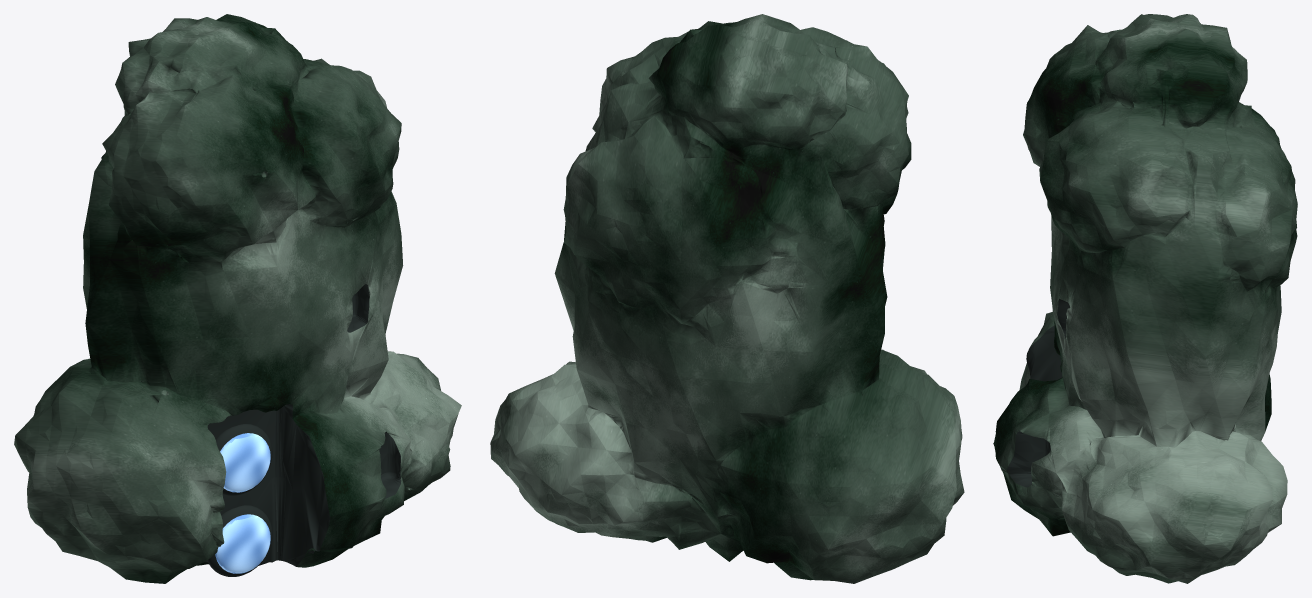
The picture shows the model from 3 angles, left to right: view 1: azimuth 30°, elevation 25°; view 2: azimuth 150°, elevation 25°; view 3: azimuth 270°, elevation 25°; orthographic projection. The views are drawn at different scales.
Parts seen in each view (by area): view 1: Lanth continuous knobbly mineral body, Lanth pale lens 0, Lanth pale lens 1, Lanth dark seat 0, Lanth dark seat 1; view 2: Lanth continuous knobbly mineral body; view 3: Lanth continuous knobbly mineral body.
Part boxes in pixels (x1,y1,x2,y2): Lanth continuous knobbly mineral body: [14, 14, 461, 583]; Lanth pale lens 0: [215, 514, 270, 573]; Lanth pale lens 1: [220, 433, 270, 492]; Lanth dark seat 0: [207, 505, 272, 576]; Lanth dark seat 1: [215, 424, 272, 495]; Lanth continuous knobbly mineral body: [490, 14, 964, 583]; Lanth continuous knobbly mineral body: [993, 14, 1297, 583].
Size of the model in its own units: 1.72 by 2.04 by 1.14.
Materials: 4 (3 with a texture image).
